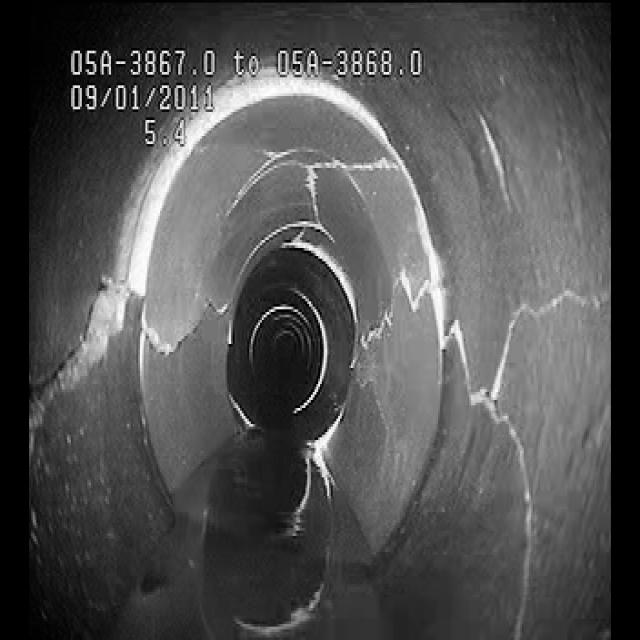Fracture: (35, 250, 207, 412)
